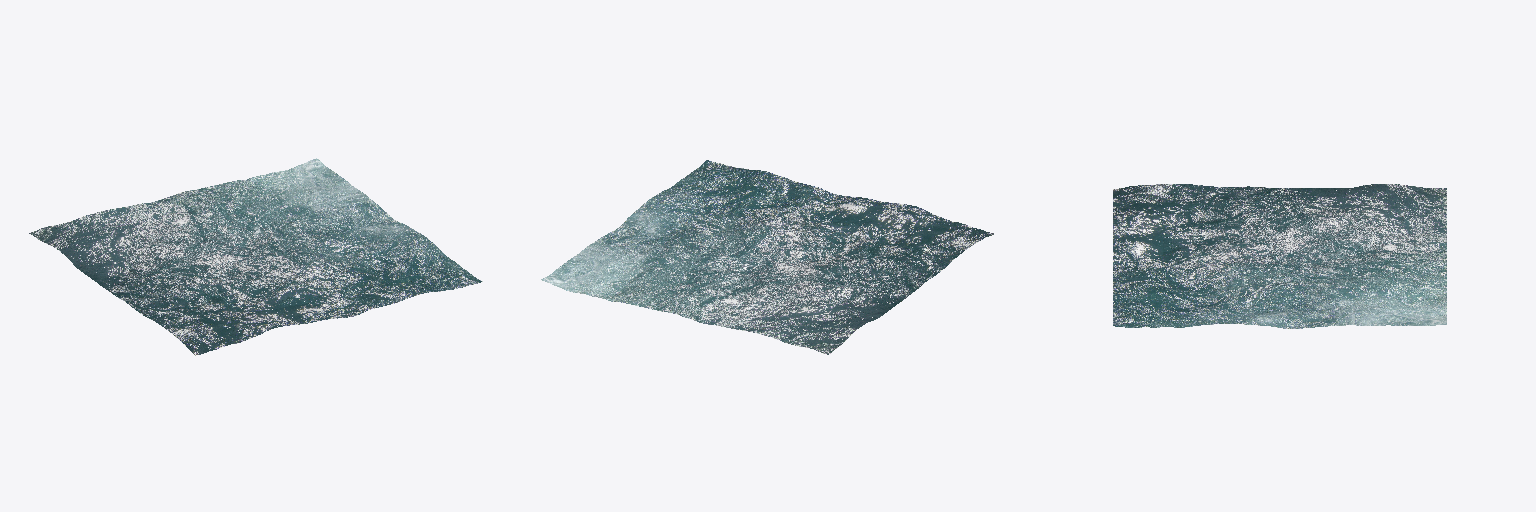
3 views of the same model, side by side, from view 1: azimuth 30°, elevation 25°; view 2: azimuth 150°, elevation 25°; view 3: azimuth 270°, elevation 25° (orthographic).
Parts seen in each view (by area): view 1: pPlane1; view 2: pPlane1; view 3: pPlane1.
Part boxes in pixels (x1,y1,x2,y2): pPlane1: (29, 158, 482, 355); pPlane1: (541, 160, 993, 354); pPlane1: (1113, 184, 1446, 328).
Bounding box in the file's own units: 778 × 24.88 × 778.
Materials: 1 (1 with a texture image).